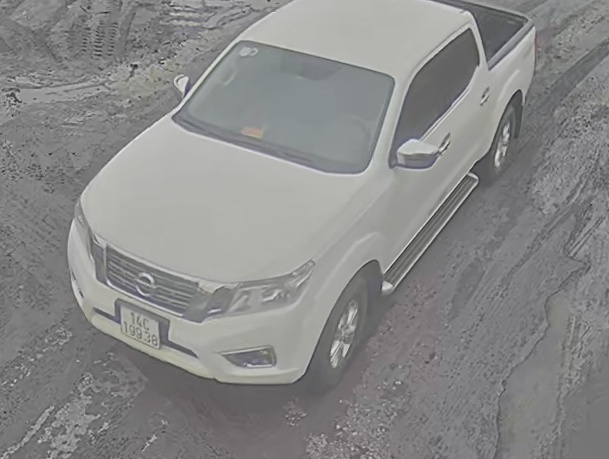vehicle plate: (116, 299, 162, 353)
